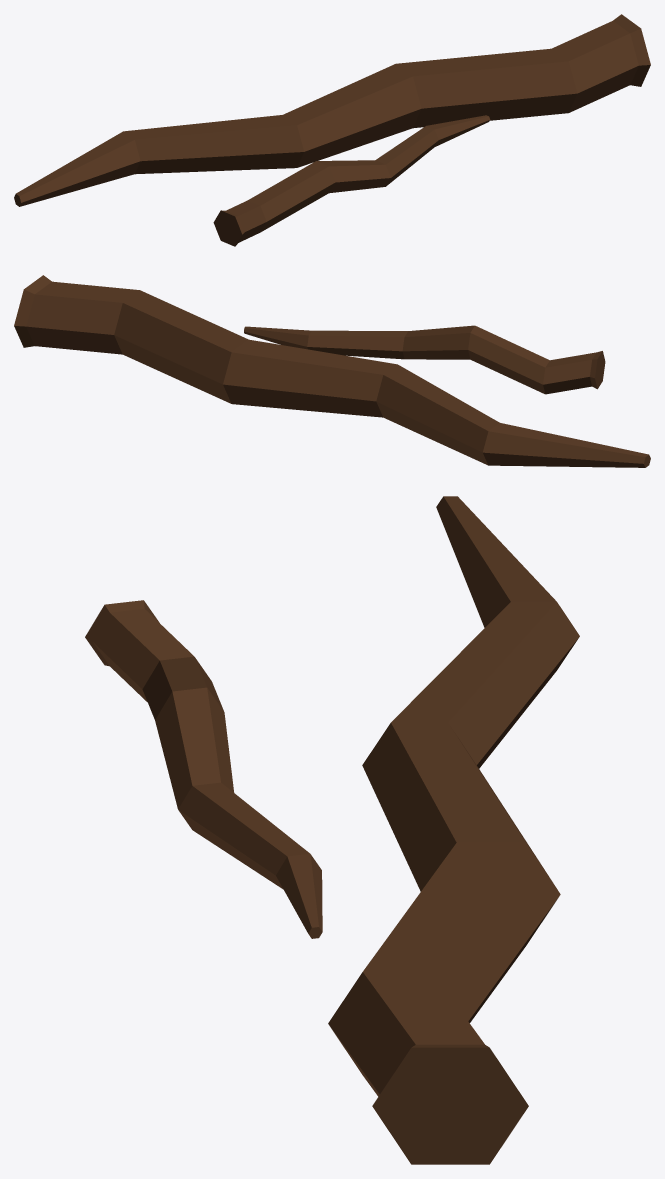
The model's file is sticks.fbx.
The picture shows the model from 3 angles, top to bottom: view 1: azimuth 30°, elevation 25°; view 2: azimuth 150°, elevation 25°; view 3: azimuth 270°, elevation 25°; orthographic projection. The views are drawn at different scales.
Visible parts, largest first — view 1: Cylinder.001; view 2: Cylinder.001; view 3: Cylinder.001.
Part boxes in pixels (left/top/right/bottom): Cylinder.001: left=14, top=14, right=650, bottom=246; Cylinder.001: left=14, top=275, right=650, bottom=467; Cylinder.001: left=85, top=496, right=579, bottom=1164.
Size of the model in its own units: 29.28 by 2.67 by 10.23.
